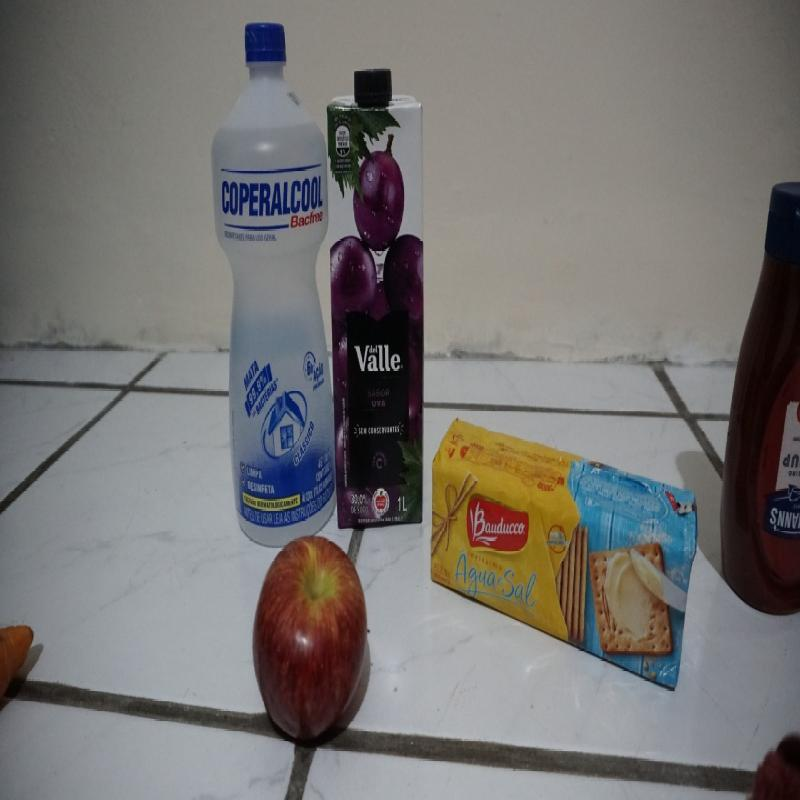Alcohol Bottle: (208, 23, 334, 526)
Apple: (253, 532, 368, 738)
Carrot: (2, 618, 33, 704)
Cracker: (430, 417, 696, 696)
Ketchup: (723, 183, 800, 614)
